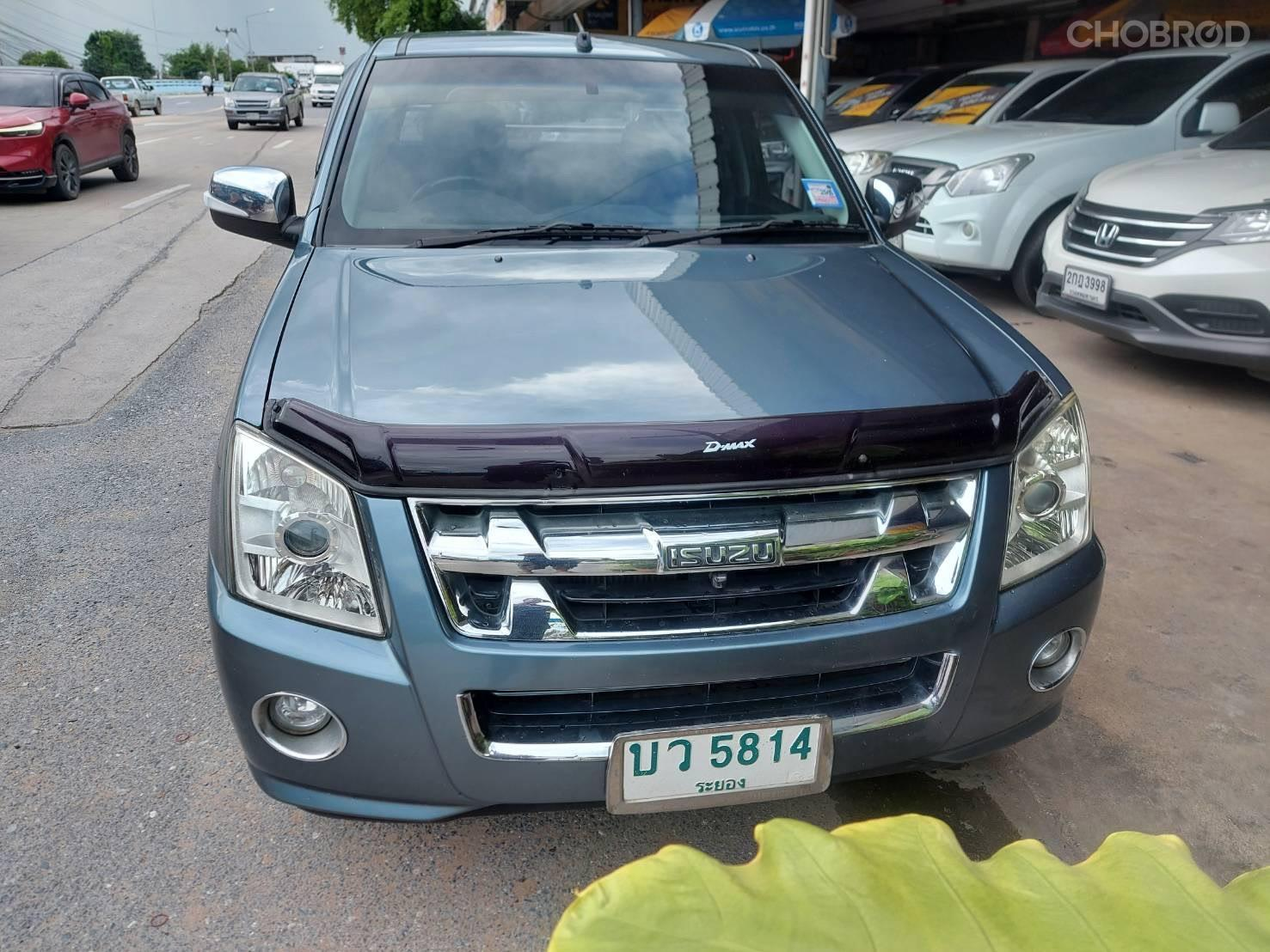license-plate: (605, 710, 836, 819)
